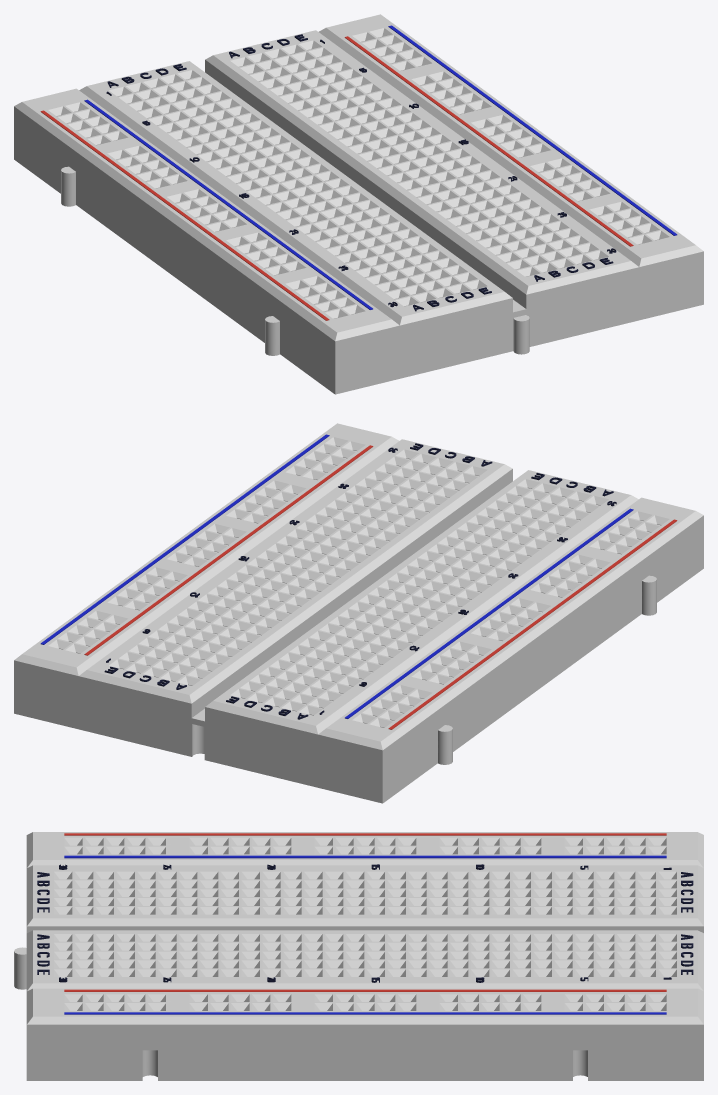
Rendered from breadboard.gltf.
The picture shows the model from 3 angles, top to bottom: view 1: azimuth 30°, elevation 25°; view 2: azimuth 150°, elevation 25°; view 3: azimuth 270°, elevation 25°; orthographic projection. The views are drawn at different scales.
Parts seen in each view (by area): view 1: node-0; view 2: node-0; view 3: node-0.
Boxes of the visible parts, left/top/right/bottom form: node-0: left=14, top=14, right=703, bottom=394; node-0: left=14, top=423, right=703, bottom=803; node-0: left=14, top=832, right=703, bottom=1080.
Bounding box in the file's own units: 4.34 × 0.655 × 6.48.
